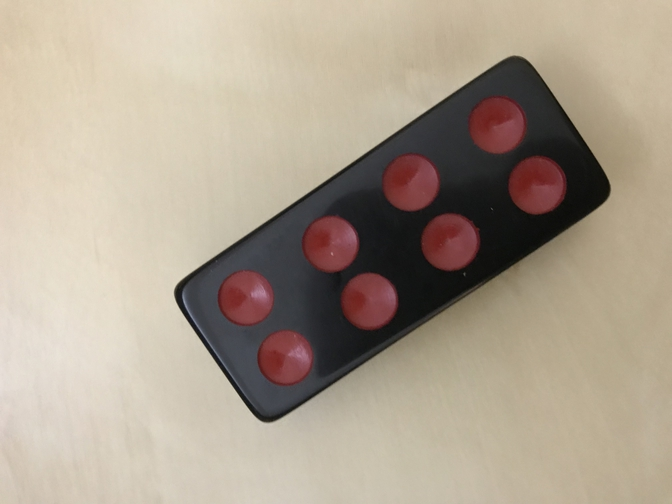man: (173, 54, 612, 423)
